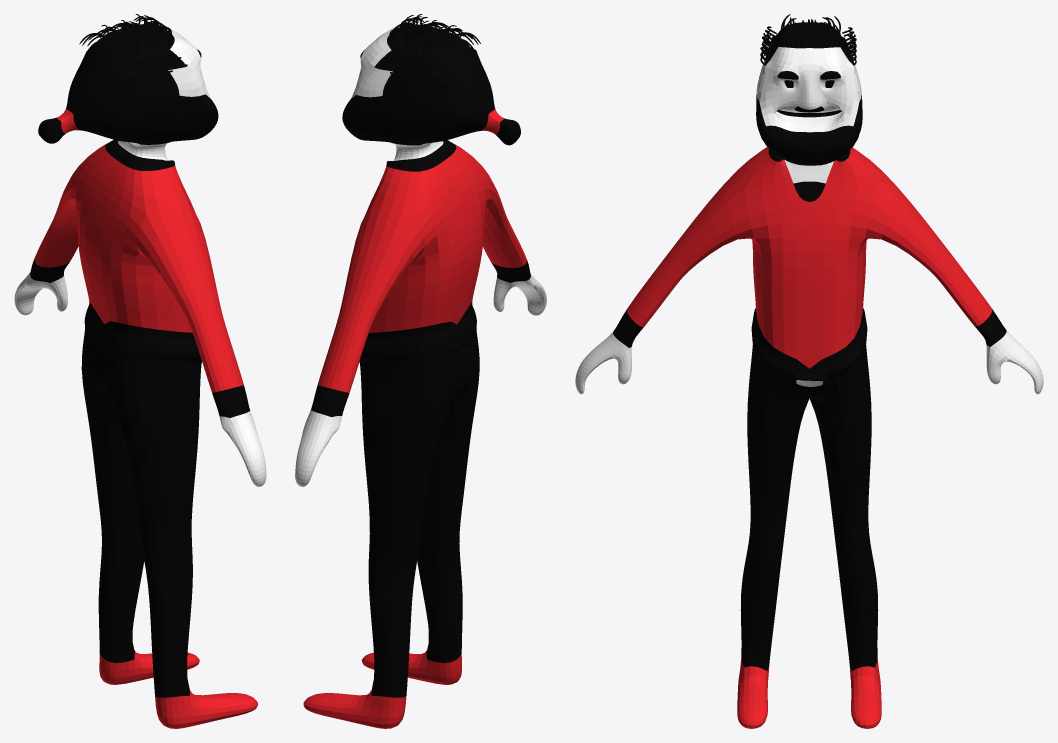
File: Townspeople1Man.fbx
3 views of the same model, side by side, from view 1: azimuth 30°, elevation 25°; view 2: azimuth 150°, elevation 25°; view 3: azimuth 270°, elevation 25° (orthographic). The views are drawn at different scales.
Parts seen in each view (by area): view 1: Townspeople; view 2: Townspeople; view 3: Townspeople.
Boxes of the visible parts, bbox=[...] form: Townspeople: bbox=[14, 14, 266, 728]; Townspeople: bbox=[295, 14, 546, 728]; Townspeople: bbox=[575, 14, 1043, 728].
Bounding box in the file's own units: 0.8325 × 2.94 × 1.87.
